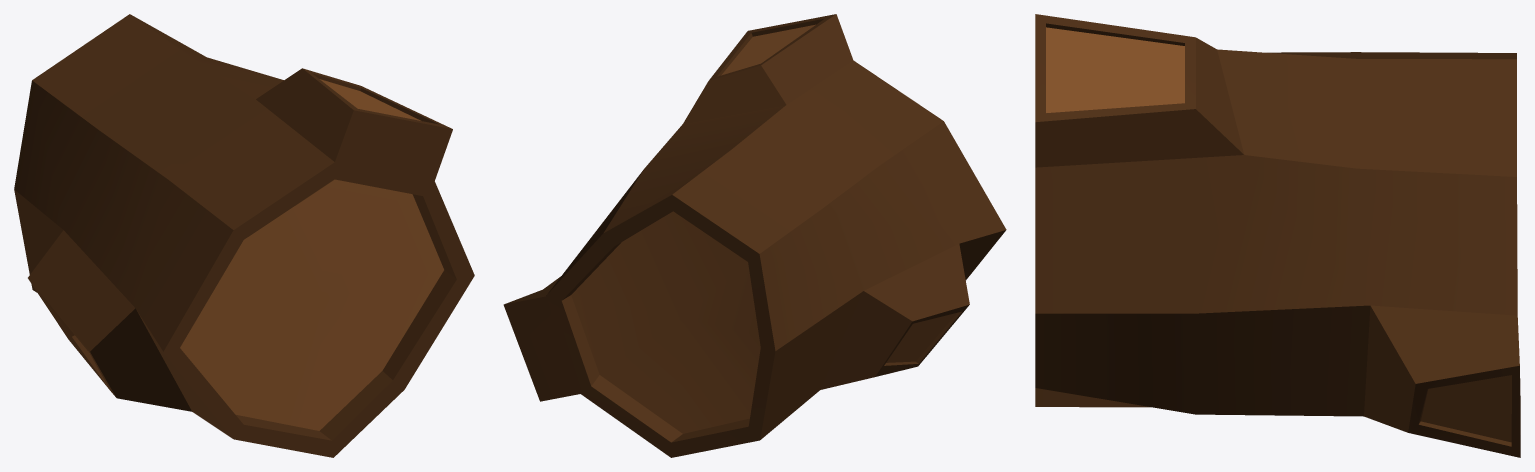
File: Tronco.fbx
3 views of the same model, side by side, from view 1: azimuth 30°, elevation 25°; view 2: azimuth 150°, elevation 25°; view 3: azimuth 270°, elevation 25° (orthographic). The views are drawn at different scales.
Parts seen in each view (by area): view 1: Tronco; view 2: Tronco; view 3: Tronco.
Boxes of the visible parts, x1,y1,x2,y2 form: Tronco: [14, 14, 474, 457]; Tronco: [503, 14, 1006, 457]; Tronco: [1035, 14, 1520, 457].
Size of the model in its own units: 26.48 by 23.2 by 25.19.
